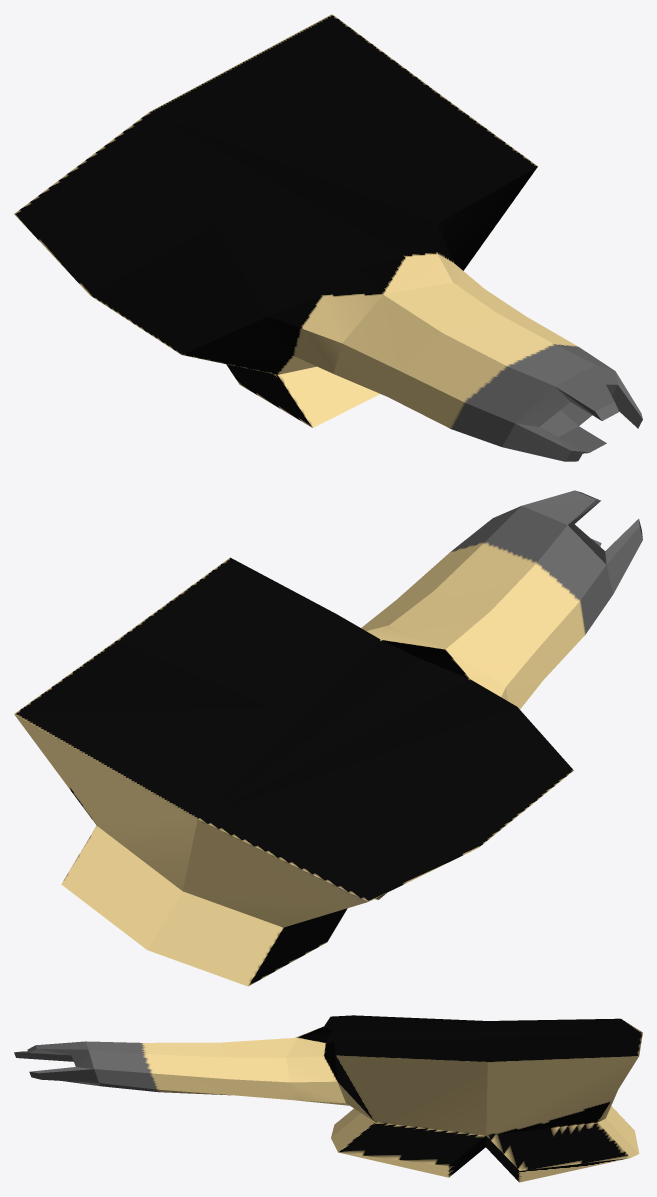
The model's file is weapon 5.FBX.
3 renders of one model, top to bottom at view 1: azimuth 30°, elevation 25°; view 2: azimuth 150°, elevation 25°; view 3: azimuth 270°, elevation 25°, orthographic. The views are drawn at different scales.
Parts seen in each view (by area): view 1: Box001; view 2: Box001; view 3: Box001.
Part boxes in pixels (bbox=[...]): Box001: bbox=[14, 14, 642, 461]; Box001: bbox=[14, 490, 642, 986]; Box001: bbox=[14, 1015, 642, 1182].
Size of the model in its own units: 26.86 by 16.87 by 57.1.
1 material, 1 textured.
